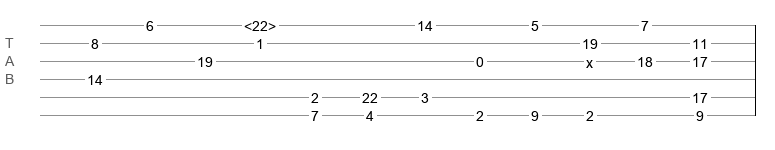0: (476, 54, 484, 64)
1: (256, 36, 264, 46)
11: (692, 36, 708, 46)
14: (87, 72, 103, 82), (417, 18, 433, 28)
17: (692, 54, 708, 64), (692, 90, 708, 100)
18: (637, 54, 653, 64)
19: (197, 54, 213, 64), (582, 36, 598, 46)
2: (311, 90, 319, 100), (476, 108, 484, 118), (586, 108, 594, 118)
22: (362, 90, 378, 100)
3: (421, 90, 429, 100)
4: (366, 108, 374, 118)
5: (531, 18, 539, 28)
6: (146, 18, 154, 28)
7: (311, 108, 319, 118), (641, 18, 649, 28)
8: (91, 36, 99, 46)
9: (531, 108, 539, 118), (696, 108, 704, 118)
harmonic: (244, 18, 276, 28)
x: (586, 55, 593, 63)
